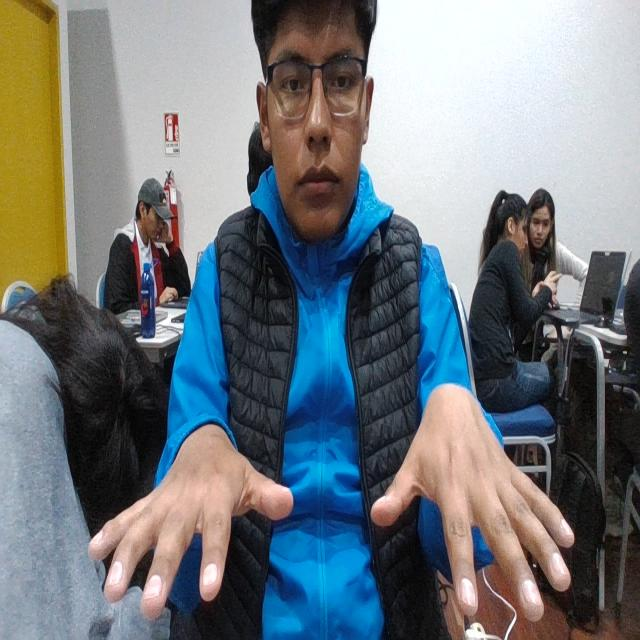calm: (84, 396, 581, 633)
